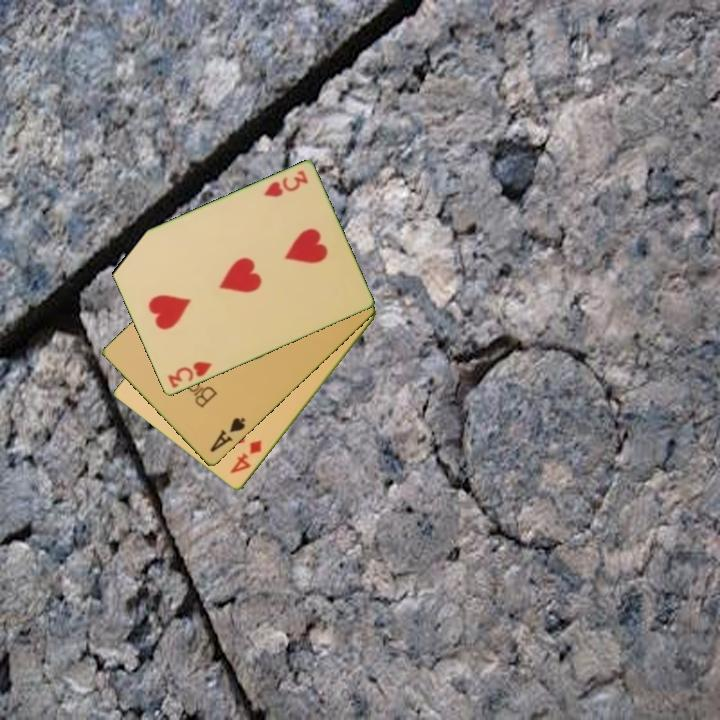3h: (164, 358, 215, 391), (260, 167, 311, 200)
4d: (227, 437, 265, 477)
As: (206, 414, 248, 456)
